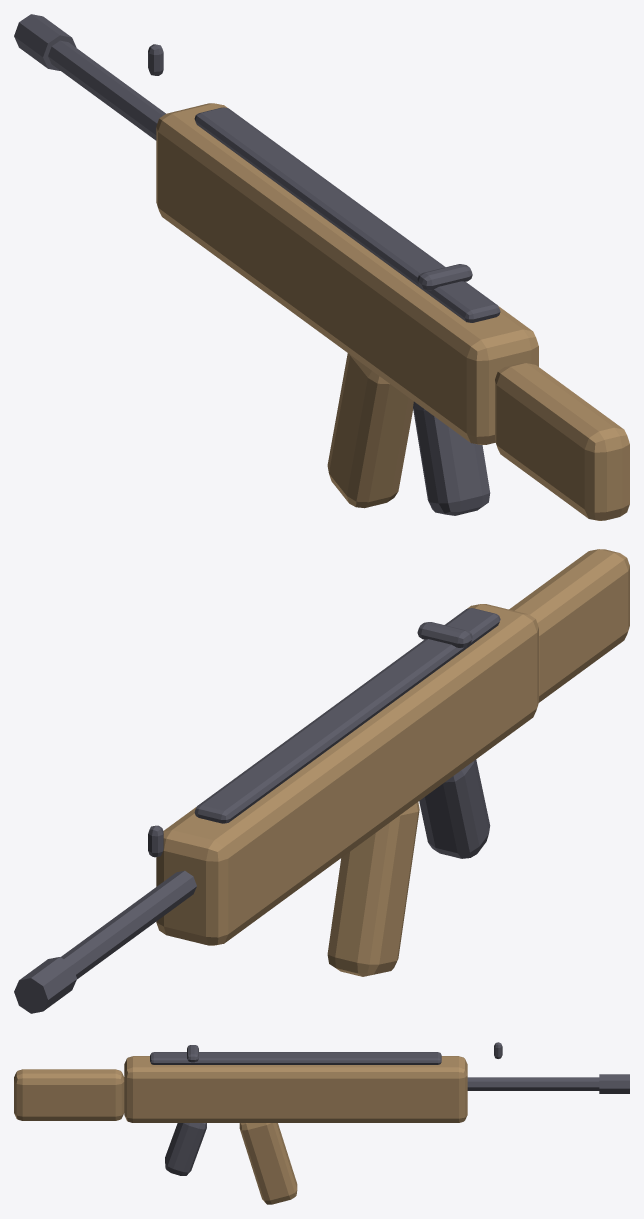
The picture shows the model from 3 angles, top to bottom: view 1: azimuth 30°, elevation 25°; view 2: azimuth 150°, elevation 25°; view 3: azimuth 270°, elevation 25°; orthographic projection. The views are drawn at different scales.
Visible parts, largest first — view 1: body, stock, body_rail, magazine, grip, barrel, muzzle, sight_rear; view 2: body, body_rail, stock, magazine, grip, barrel, muzzle, sight_rear; view 3: body, stock, body_rail, magazine, barrel, grip, muzzle.
Part boxes in pixels (x1=…): body: x1=156, y1=103, x2=538, y2=444; stock: x1=495, y1=363, x2=629, y2=520; body_rail: x1=194, y1=107, x2=500, y2=322; magazine: x1=327, y1=353, x2=413, y2=508; grip: x1=413, y1=401, x2=490, y2=515; barrel: x1=48, y1=40, x2=165, y2=140; muzzle: x1=14, y1=14, x2=76, y2=70; sight_rear: x1=417, y1=264, x2=472, y2=290; body: x1=156, y1=604, x2=538, y2=945; body_rail: x1=194, y1=608, x2=500, y2=823; stock: x1=509, y1=549, x2=629, y2=702; magazine: x1=327, y1=802, x2=419, y2=976; grip: x1=419, y1=759, x2=490, y2=858; barrel: x1=61, y1=870, x2=196, y2=979; muzzle: x1=14, y1=957, x2=76, y2=1013; sight_rear: x1=417, y1=622, x2=472, y2=647; body: x1=124, y1=1056, x2=467, y2=1122; stock: x1=14, y1=1069, x2=124, y2=1120; body_rail: x1=150, y1=1052, x2=441, y2=1064; magazine: x1=239, y1=1123, x2=297, y2=1204; barrel: x1=467, y1=1077, x2=599, y2=1090; grip: x1=165, y1=1123, x2=206, y2=1175; muzzle: x1=599, y1=1074, x2=629, y2=1093.
Bounding box in the file's own units: 0.07 × 0.2863 × 1.
